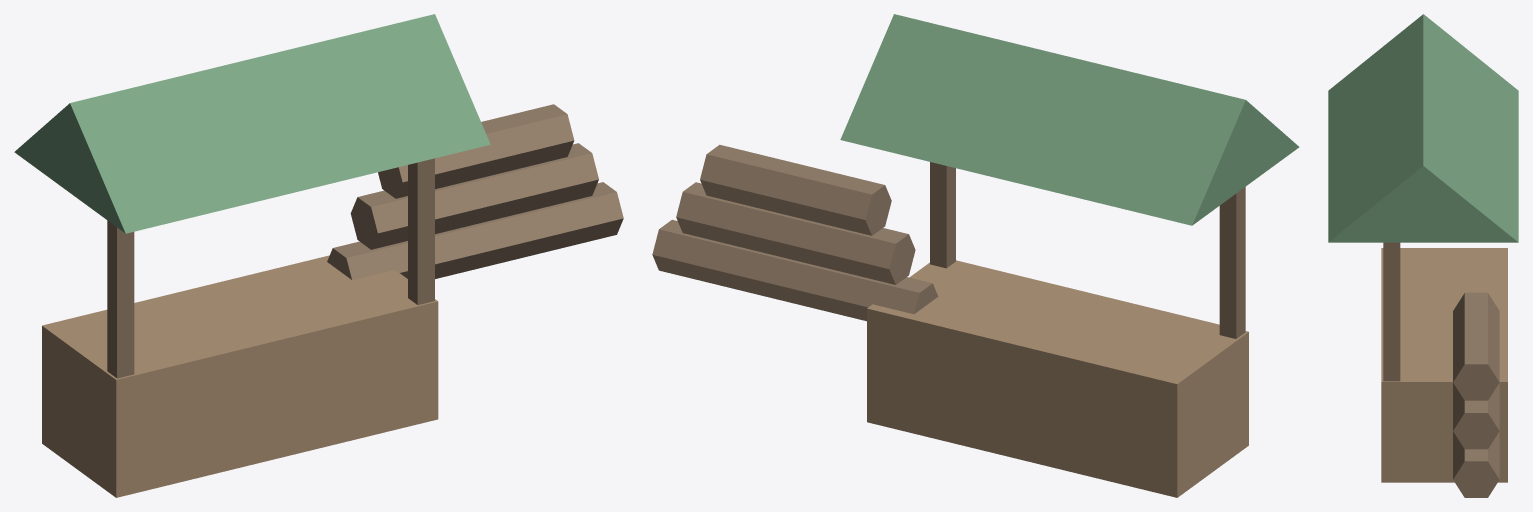
3 renders of one model, left to right at view 1: azimuth 30°, elevation 25°; view 2: azimuth 150°, elevation 25°; view 3: azimuth 270°, elevation 25°, orthographic. The views are drawn at different scales.
Parts seen in each view (by area): view 1: structure.counter_forest; view 2: structure.counter_forest; view 3: structure.counter_forest.
Boxes of the visible parts, <box> form: structure.counter_forest: <box>14,14,623,497</box>; structure.counter_forest: <box>652,14,1299,497</box>; structure.counter_forest: <box>1328,14,1518,497</box>.
Bounding box in the file's own units: 5.32 × 3.4 × 1.8.
